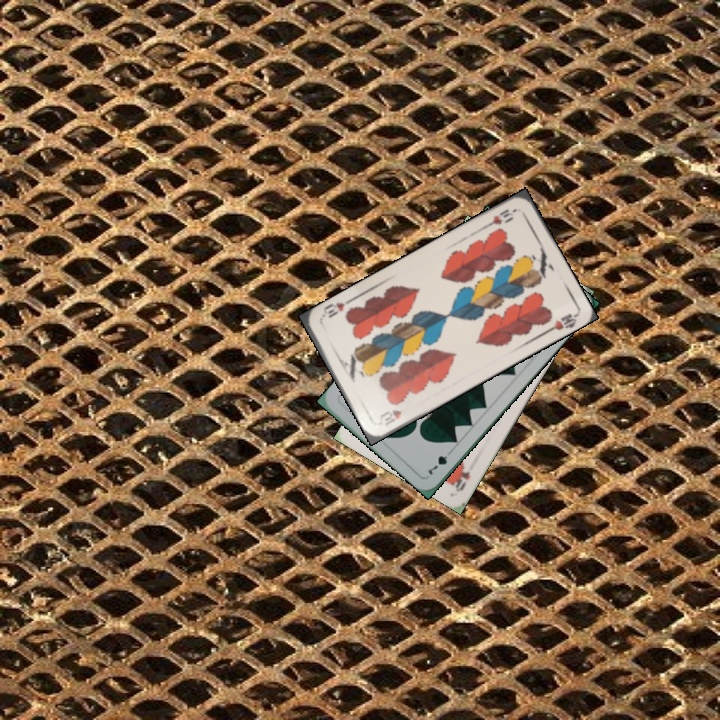G7: (424, 445, 456, 478)
H10: (482, 205, 519, 230), (375, 405, 404, 429)
HO: (451, 462, 473, 494)
